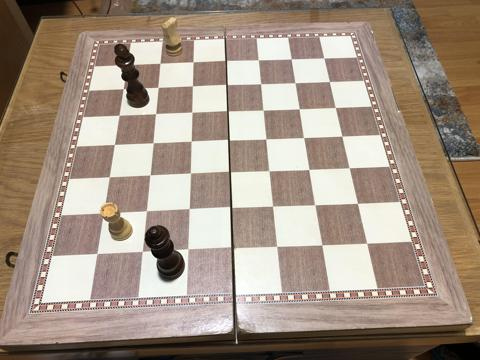xcorner: (318, 52, 330, 65), (289, 77, 302, 89), (285, 54, 297, 66), (253, 55, 265, 67), (220, 56, 232, 68), (187, 57, 199, 69), (154, 58, 166, 70), (120, 59, 132, 71), (324, 76, 336, 88), (255, 78, 267, 90), (221, 80, 233, 92), (186, 81, 198, 93), (152, 82, 164, 94), (117, 83, 129, 95), (330, 102, 342, 114), (294, 103, 306, 115), (258, 105, 270, 117), (222, 106, 234, 118), (186, 107, 198, 119), (149, 108, 161, 120), (113, 110, 125, 122), (337, 131, 349, 143), (299, 132, 311, 144), (261, 133, 273, 145), (223, 135, 235, 147), (185, 136, 197, 148), (147, 138, 159, 150), (108, 139, 120, 151), (344, 162, 356, 174), (305, 164, 317, 176), (265, 165, 277, 177), (225, 167, 237, 179), (184, 169, 196, 181), (144, 170, 156, 182), (103, 172, 115, 184), (353, 198, 365, 210), (311, 199, 323, 211), (269, 201, 281, 213), (226, 203, 238, 215), (184, 205, 196, 217), (141, 206, 153, 218), (98, 208, 110, 220), (362, 237, 374, 249), (318, 239, 330, 251), (273, 241, 285, 253), (228, 243, 240, 255), (183, 245, 195, 257), (137, 247, 149, 259), (92, 249, 104, 261)
